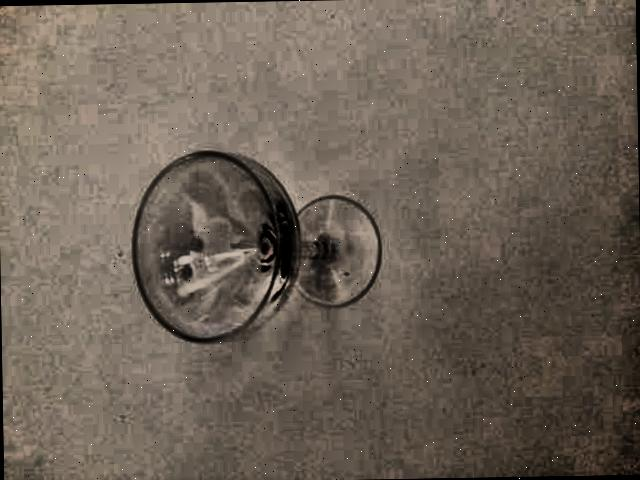Almennt: (128, 132, 412, 357)
